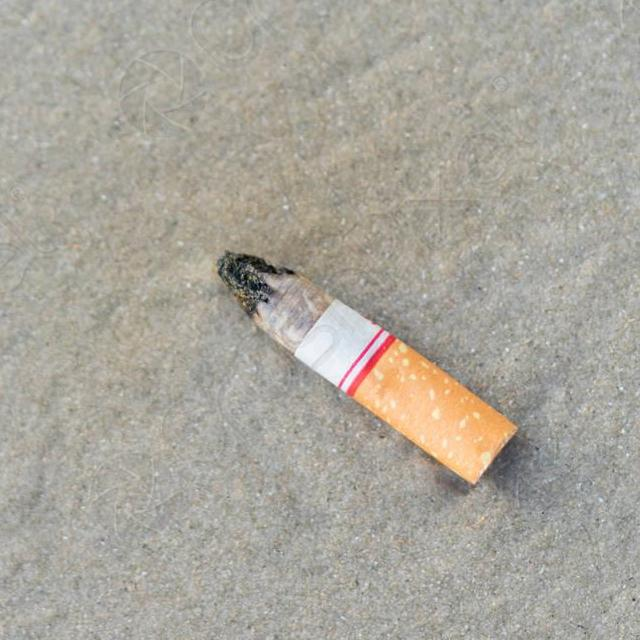Cigarette Butt: (210, 243, 526, 492)
